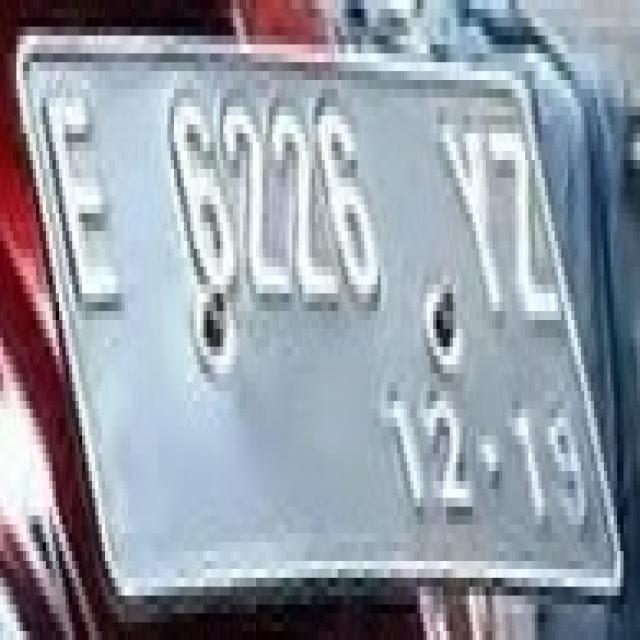plate: (16, 18, 617, 596)
